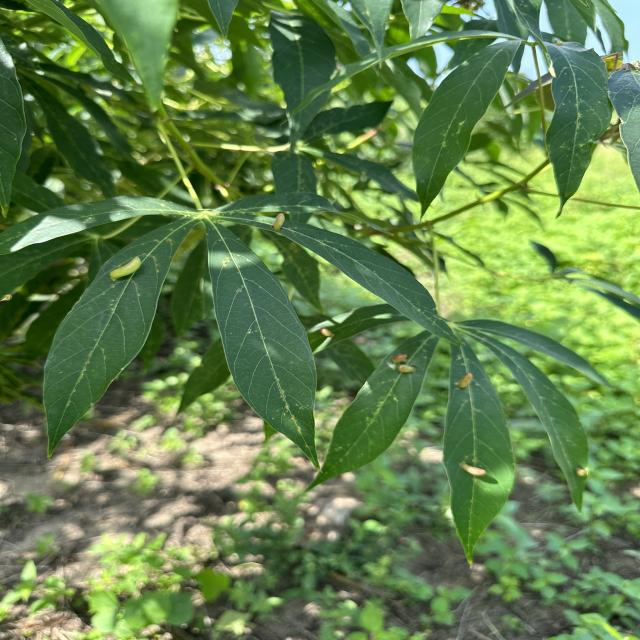Mosca: (565, 452, 614, 509), (100, 246, 152, 292), (458, 446, 493, 488), (309, 314, 345, 352), (387, 345, 422, 383), (271, 207, 303, 247), (457, 358, 488, 399)
